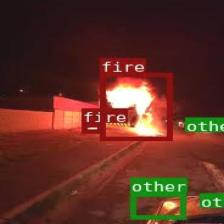fire: (100, 72, 171, 140), (81, 122, 101, 133)
